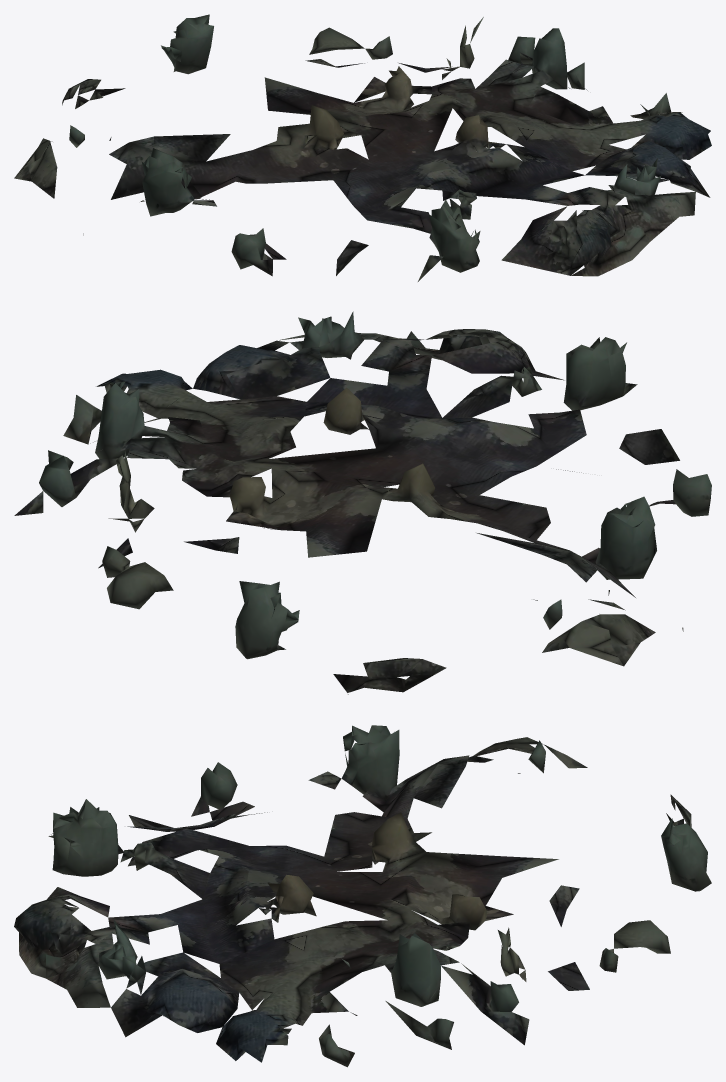
File: swamp-hill-1.glb
3 renders of one model, top to bottom at view 1: azimuth 30°, elevation 25°; view 2: azimuth 150°, elevation 25°; view 3: azimuth 270°, elevation 25°, orthographic. The views are drawn at different scales.
Visible parts, largest first — view 1: geometry_0; view 2: geometry_0; view 3: geometry_0.
Boxes of the visible parts, x1,y1,x2,y2 form: geometry_0: (14,14,711,281); geometry_0: (14,311,711,694); geometry_0: (14,725,711,1067).
Size of the model in its own units: 0.8508 by 0.1328 by 0.8142.
1 material, 1 textured.
